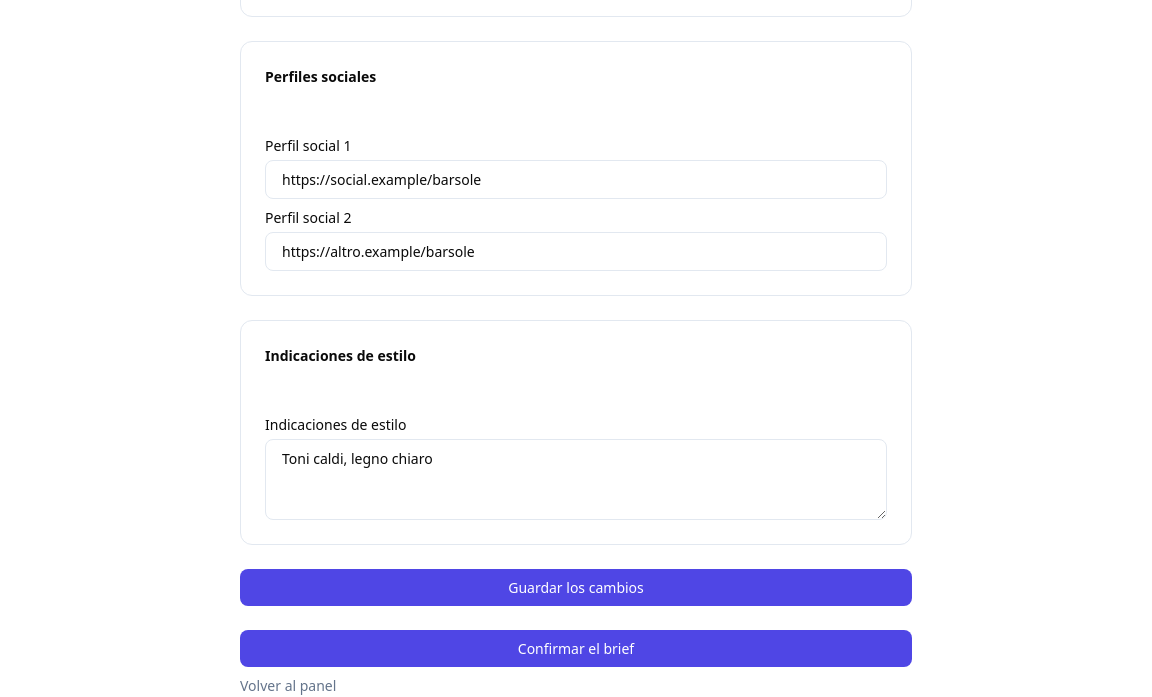
it: T-152 localizzazione (AC-152-4) › in es i riscontri del salvataggio sono in spagnolo
(page scrolled)
Nessuna modifica: il riscontro minimo, in spagnolo.
Click the button "Guardar los cambios" at (576, 588), box [240, 569, 912, 606]
(page scrolled)
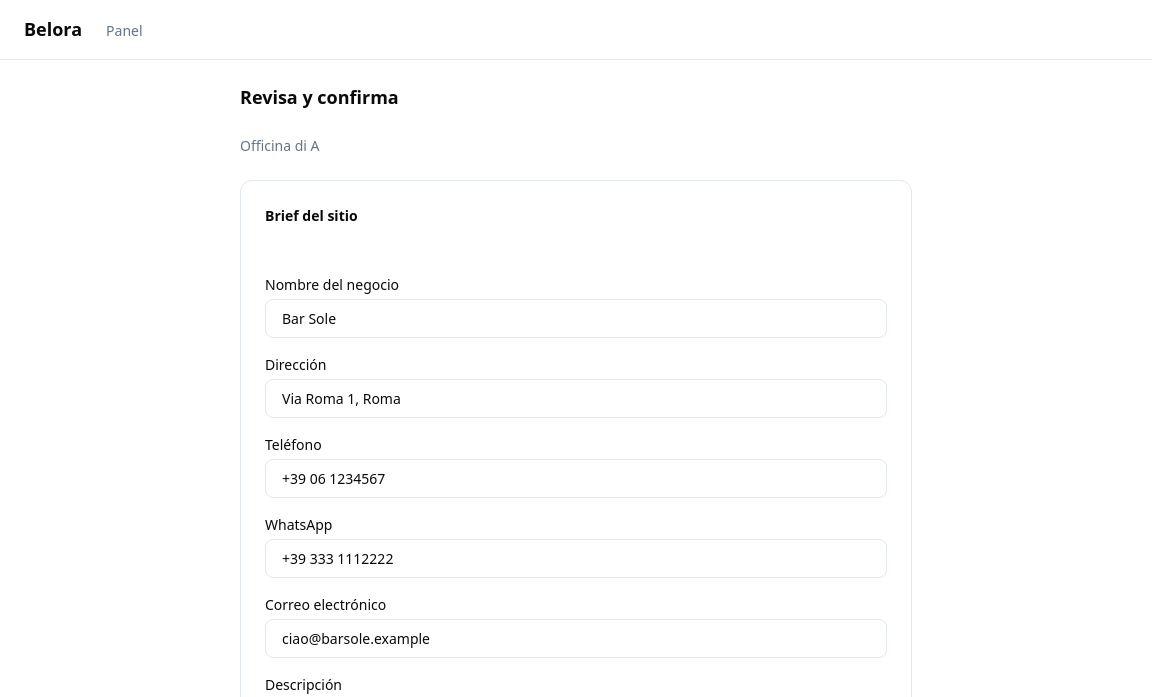
Replace the text in the field labelled "Nombre del negocio" with "Bar Sol Bis" at (576, 318), box [265, 299, 887, 338]
(page scrolled)
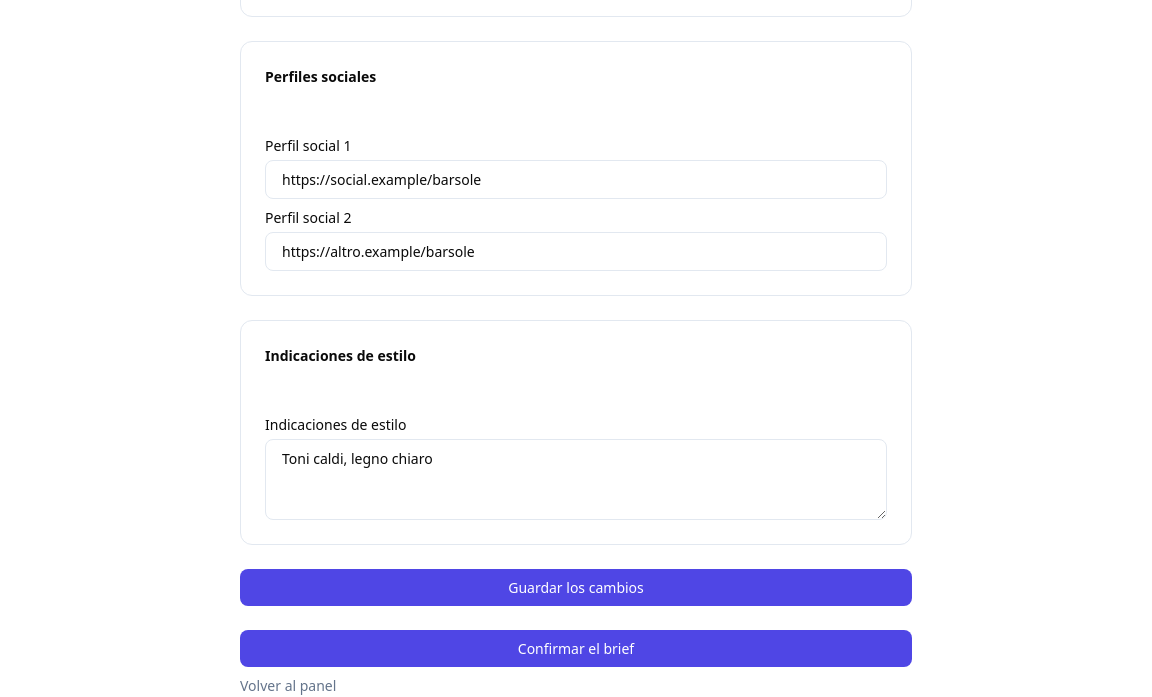
Click the button "Guardar los cambios" at (576, 588), box [240, 569, 912, 606]
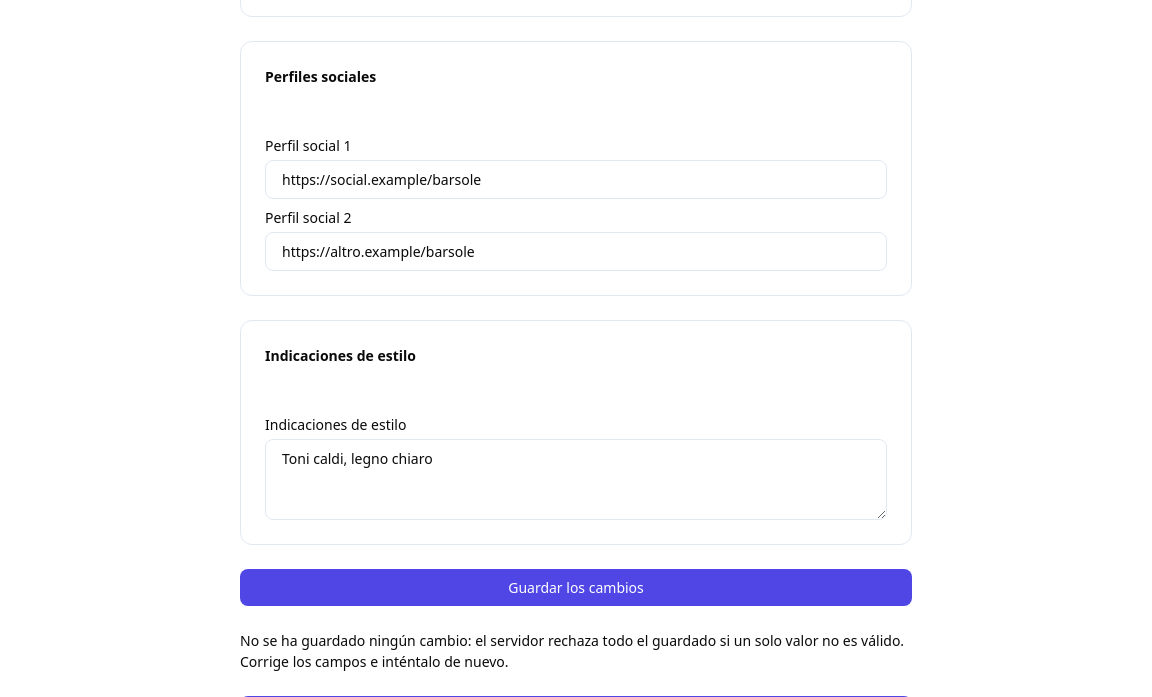
Expected: the message shows "No se ha guardado ningún cambio: el servidor rechaza todo el guardado si un solo valor no es válido. Corrige los campos e inténtalo de nuevo.", [240, 631, 904, 671]
